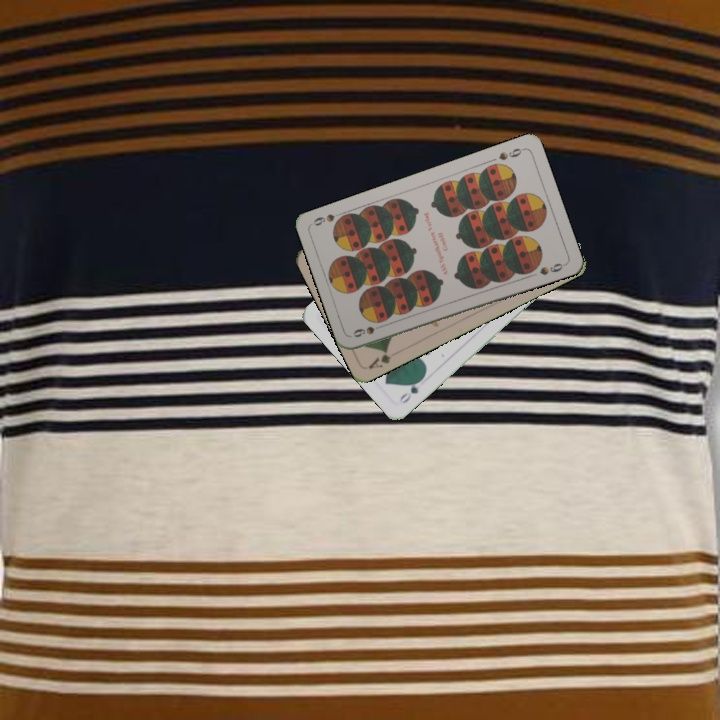GA: (365, 345, 394, 372)
GO: (395, 373, 426, 406)
S9: (349, 320, 389, 340), (495, 144, 527, 163)
